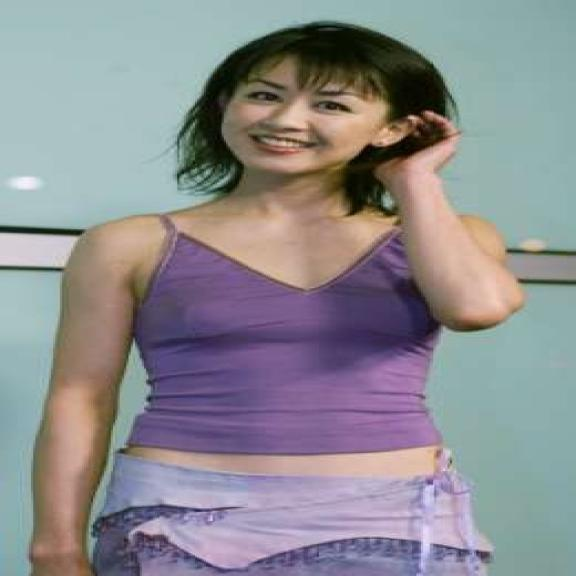face: (198, 51, 425, 178)
